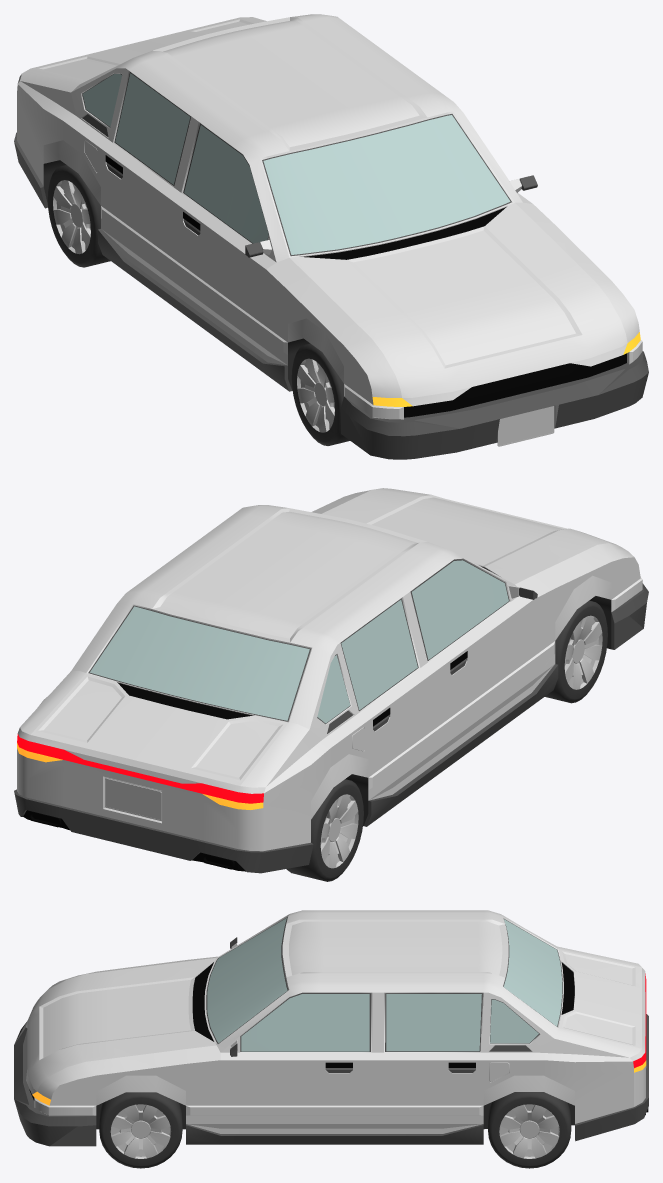
Rendered from Sylph.fbx.
3 renders of one model, top to bottom at view 1: azimuth 30°, elevation 25°; view 2: azimuth 150°, elevation 25°; view 3: azimuth 270°, elevation 25°, orthographic. The views are drawn at different scales.
Visible parts, largest first — view 1: Sylph, Sylph_Rearwheel, Sylph_Rightwheel, inaba_numberplate; view 2: Sylph, Sylph_Rearwheel, Sylph_Rightwheel, inaba_numberplate; view 3: Sylph, Sylph_Rearwheel, Sylph_Leftwheel.
Part boxes in pixels (box(x1,y1,x2,y2)): Sylph: box(14, 14, 648, 459); Sylph_Rearwheel: box(47, 165, 110, 267); Sylph_Rightwheel: box(291, 343, 349, 445); inaba_numberplate: box(497, 406, 554, 446); Sylph: box(14, 488, 648, 873); Sylph_Rearwheel: box(286, 779, 363, 881); Sylph_Rightwheel: box(545, 600, 607, 703); inaba_numberplate: box(105, 778, 161, 820); Sylph: box(14, 910, 648, 1146); Sylph_Rearwheel: box(488, 1092, 571, 1168); Sylph_Leftwheel: box(99, 1092, 182, 1168).
Size of the model in its own units: 187 by 133 by 448.
